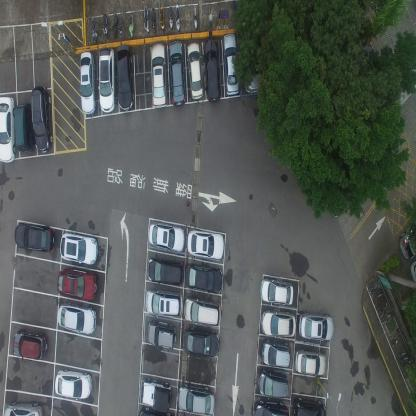car: (30, 84, 53, 152), (57, 266, 97, 300), (57, 300, 96, 334), (177, 381, 216, 415), (13, 221, 55, 252), (59, 232, 98, 265), (202, 36, 221, 102), (116, 44, 135, 110), (54, 367, 92, 400), (184, 263, 224, 294), (147, 222, 185, 254), (98, 46, 116, 112), (184, 296, 221, 328), (141, 374, 172, 412), (186, 230, 225, 260), (169, 38, 186, 106), (298, 310, 334, 342), (146, 256, 184, 286), (223, 31, 240, 97), (144, 289, 182, 318), (186, 40, 204, 101), (12, 329, 48, 359), (151, 42, 167, 109), (80, 49, 96, 116), (0, 94, 15, 165), (182, 328, 220, 356), (244, 30, 260, 96), (261, 308, 296, 338), (260, 275, 293, 306), (147, 318, 177, 352), (295, 346, 326, 377), (14, 101, 32, 153), (258, 368, 288, 399), (398, 219, 416, 263), (262, 340, 290, 368), (3, 400, 44, 416), (293, 396, 327, 415), (254, 398, 289, 416)
